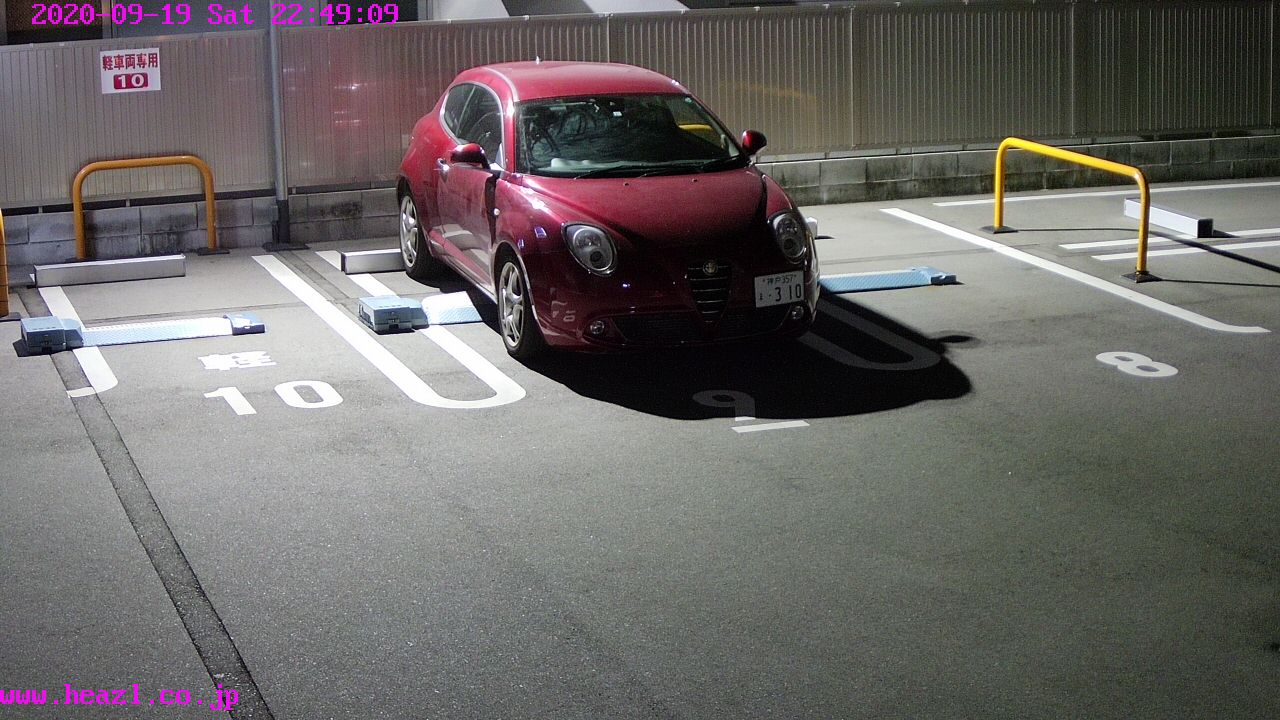number_plate: (753, 274, 805, 304)
